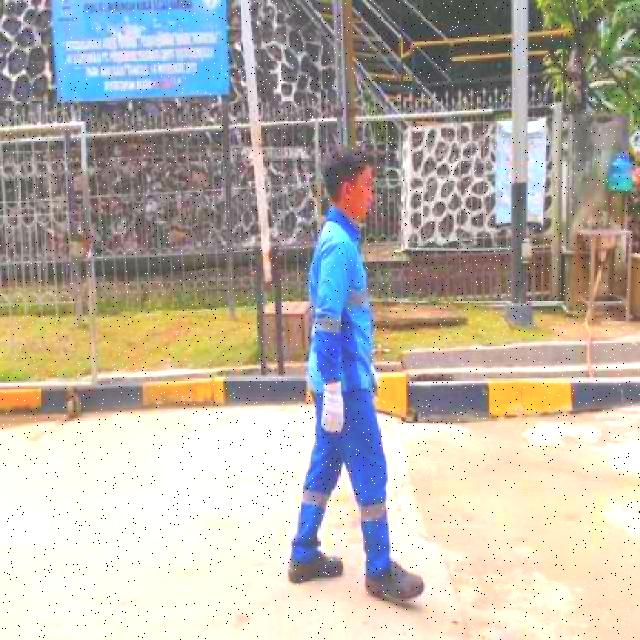Boots: (358, 556, 432, 610), (282, 538, 352, 592)
Gloves: (318, 378, 351, 437)
